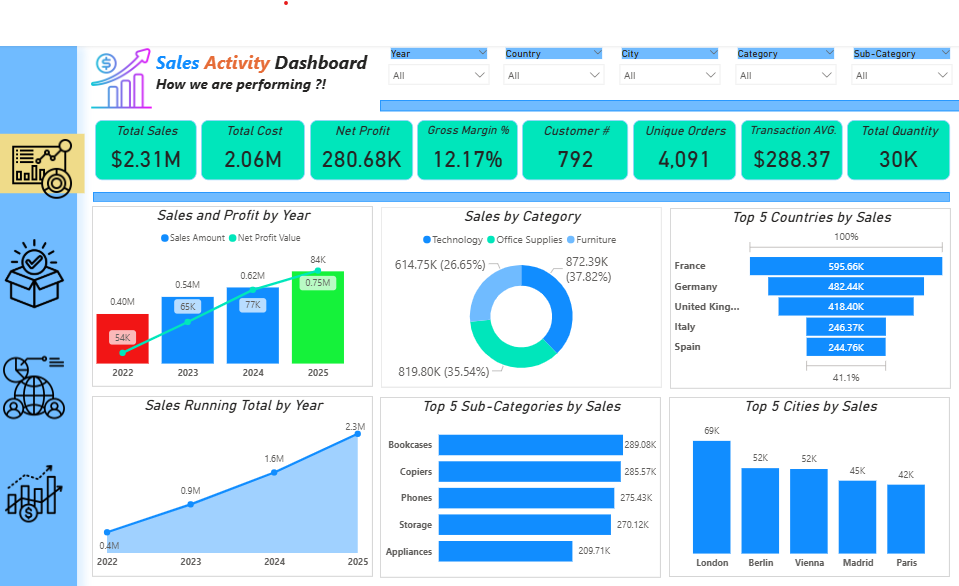

Layout of this report page (visuals, bound fields, positions):
{"tool":"powerbi","page":{"name":"Summary Analysis","canvas":[1280,720],"ordinal":0},"visuals":[{"type":"shape","box":[0,0,105.3,720],"z":0},{"type":"lineStackedColumnComboChart","title":"Sales and Profit by Year","fields":{"Category":["_Dim - Calendar._Dim Calendar Hierarchy.Year"],"Y":["Sum(Fact - Sales.Sales (After Discount))"],"Y2":["Sum(Fact - Sales.Net Profit)"]},"box":[125.5,215.1,372.7,240.3],"z":1000},{"type":"slicer","fields":{"Values":["Dim - Country.Country"]},"box":[661.4,-0.3,154,62.5],"z":2000,"group":"g2"},{"type":"card","title":"Total Sales","fields":{"Values":["_Key Measures.01. Total Sales"]},"box":[128.4,100.6,135.1,79.8],"z":3000,"group":"g2"},{"type":"slicer","fields":{"Values":["_Dim - Calendar._Dim Calendar Hierarchy.Year"]},"box":[508.8,-0.3,153.7,62.5],"z":4000,"group":"g2"},{"type":"image","box":[0.9,258.9,93.7,92.1],"z":5000},{"type":"donutChart","title":"Sales by Category","fields":{"Y":["Sum(Fact - Sales.Sales (After Discount))"],"Category":["Dim - Category.Category"]},"box":[508.8,216,372.7,240.3],"z":6000},{"type":"slicer","fields":{"Values":["Dim - City.City"]},"box":[815.4,-0.3,154,61.3],"z":7000,"group":"g2"},{"type":"image","box":[4,557.4,87.3,79.4],"z":8000},{"type":"image","box":[0,110.3,115,97.1],"z":8750,"group":"g1"},{"type":"image","box":[10,125.2,96.7,82.2],"z":8875,"group":"g1"},{"type":"slicer","fields":{"Values":["Dim - Sub-Category.Sub-Category"]},"box":[1123.4,-0.3,154,61.3],"z":9000,"group":"g2"},{"type":"textbox","box":[204.4,2.5,304.9,84.2],"z":10000,"group":"g2"},{"type":"image","box":[5.2,411.8,85,89],"z":11000},{"type":"slicer","fields":{"Values":["Dim - Category.Category"]},"box":[969.4,-0.3,154,61.3],"z":12000,"group":"g2"},{"type":"image","box":[123.5,2.5,80.9,86],"z":13000,"group":"g2"},{"type":"funnel","title":"Top 5 Countries by Sales","fields":{"Category":["Dim - Country.Country"],"Y":["Sum(Fact - Sales.Sales (After Discount))"]},"box":[892.5,217.6,372.7,239.6],"z":14000},{"type":"group","id":"g1","title":"Group 5","box":[0,110.3,115.6,97],"z":15000},{"type":"card","title":"Total Cost","fields":{"Values":["_Key Measures.02. Cost of Goods Sold (COGS)"]},"box":[269.7,100.6,138.2,80.3],"z":16000,"group":"g2"},{"type":"shape","box":[125.5,195.7,1138.3,13.4],"z":17000,"group":"g2"},{"type":"areaChart","title":"Sales Running Total by Year","fields":{"Y":["_Key Measures.15. Sales Running Total (RT_)"],"Category":["_Dim - Calendar._Dim Calendar Hierarchy.Year","_Dim - Calendar._Dim Calendar Hierarchy.Quarter","_Dim - Calendar._Dim Calendar Hierarchy.Month No.","_Dim - Calendar._Dim Calendar Hierarchy.Mnonth Name","_Dim - Calendar._Dim Calendar Hierarchy.Week No. Monthly"]},"box":[125.5,467.5,373,239.6],"z":18000},{"type":"shape","box":[507.9,74.7,773,15],"z":19000,"group":"g2"},{"type":"clusteredBarChart","title":"Top 5 Sub-Categories by Sales","fields":{"Category":["Dim - Sub-Category.Sub-Category"],"Y":["Sum(Fact - Sales.Sales (After Discount))"]},"box":[508.1,468.4,372.7,239.6],"z":20000},{"type":"card","title":"Net Profit","fields":{"Values":["_Key Measures.03. Net Profit Value"]},"box":[414,100.6,136.6,80.3],"z":21000,"group":"g2"},{"type":"columnChart","title":"Top 5 Cities by Sales","fields":{"Y":["Sum(Fact - Sales.Sales (After Discount))"],"Category":["Dim - City.City"]},"box":[891.8,469,373.4,239],"z":22000},{"type":"card","title":"Total Quantity","fields":{"Values":["_Key Measures.10 Total Quantity"]},"box":[1127.8,100.6,136.6,80.3],"z":23000,"group":"g2"},{"type":"card","title":"Transaction AVG.","fields":{"Values":["_Key Measures.09. Transaction Avg"]},"box":[986.5,100.6,135.1,80.3],"z":24000,"group":"g2"},{"type":"card","title":"Gross Margin %","fields":{"Values":["_Key Measures.04. Gross Margin % (GM %)"]},"box":[556.7,100.6,133.5,80.3],"z":25000,"group":"g2"},{"type":"card","title":"Customer #","fields":{"Values":["_Key Measures.06. Unique Customers"]},"box":[696.4,100.6,141.2,80.3],"z":26000,"group":"g2"},{"type":"card","title":"Unique Orders","fields":{"Values":["_Key Measures.08. Unique Orders"]},"box":[843.8,100.6,136.6,80.3],"z":27000,"group":"g2"},{"type":"group","id":"g2","title":"Group 1","box":[123.5,-0.3,1157.4,209.5],"z":27001}]}

Visuals, with their boxes on the page's 1280x720 design canvas (x1, y1, x2, y2). These are canvas units, not pixel positions in the 959x586 screenshot, which may show the page scaled, cropped or inside an application window:
shape: Rect(0, 0, 105, 720)
"Sales and Profit by Year" lineStackedColumnComboChart: Rect(126, 215, 498, 455)
slicer - Dim - Country.Country: Rect(661, 0, 815, 62)
"Total Sales" card: Rect(128, 101, 264, 180)
slicer - _Dim - Calendar._Dim Calendar Hierarchy.Year: Rect(509, 0, 662, 62)
image: Rect(1, 259, 95, 351)
"Sales by Category" donutChart: Rect(509, 216, 882, 456)
slicer - Dim - City.City: Rect(815, 0, 969, 61)
image: Rect(4, 557, 91, 637)
image: Rect(0, 110, 115, 207)
image: Rect(10, 125, 107, 207)
slicer - Dim - Sub-Category.Sub-Category: Rect(1123, 0, 1277, 61)
textbox: Rect(204, 2, 509, 87)
image: Rect(5, 412, 90, 501)
slicer - Dim - Category.Category: Rect(969, 0, 1123, 61)
image: Rect(124, 2, 204, 88)
"Top 5 Countries by Sales" funnel: Rect(892, 218, 1265, 457)
"Group 5" group: Rect(0, 110, 116, 207)
"Total Cost" card: Rect(270, 101, 408, 181)
shape: Rect(126, 196, 1264, 209)
"Sales Running Total by Year" areaChart: Rect(126, 468, 498, 707)
shape: Rect(508, 75, 1281, 90)
"Top 5 Sub-Categories by Sales" clusteredBarChart: Rect(508, 468, 881, 708)
"Net Profit" card: Rect(414, 101, 551, 181)
"Top 5 Cities by Sales" columnChart: Rect(892, 469, 1265, 708)
"Total Quantity" card: Rect(1128, 101, 1264, 181)
"Transaction AVG." card: Rect(986, 101, 1122, 181)
"Gross Margin %" card: Rect(557, 101, 690, 181)
"Customer #" card: Rect(696, 101, 838, 181)
"Unique Orders" card: Rect(844, 101, 980, 181)
"Group 1" group: Rect(124, 0, 1281, 209)
